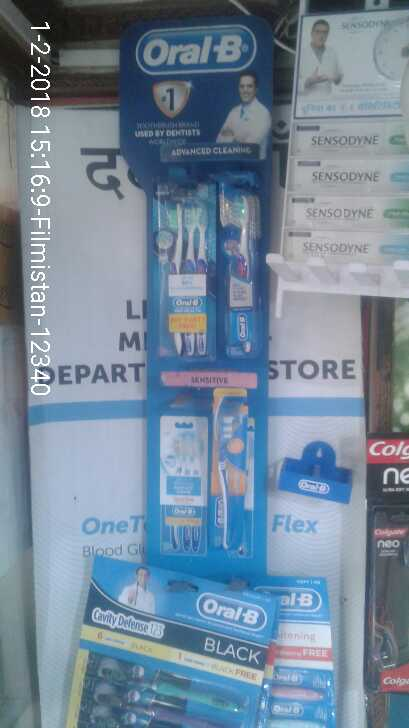oralb: (148, 191, 207, 357), (220, 186, 258, 371), (216, 412, 241, 562)
